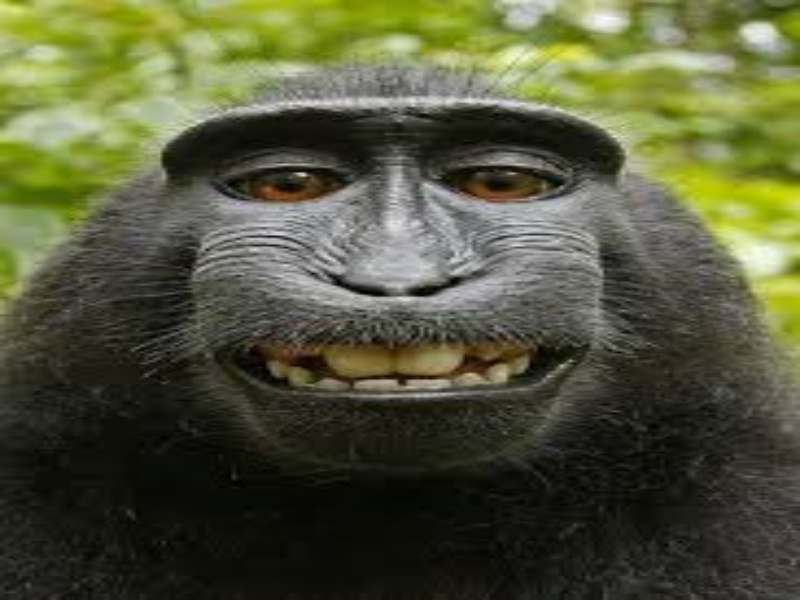monkey: (79, 1, 679, 600)
